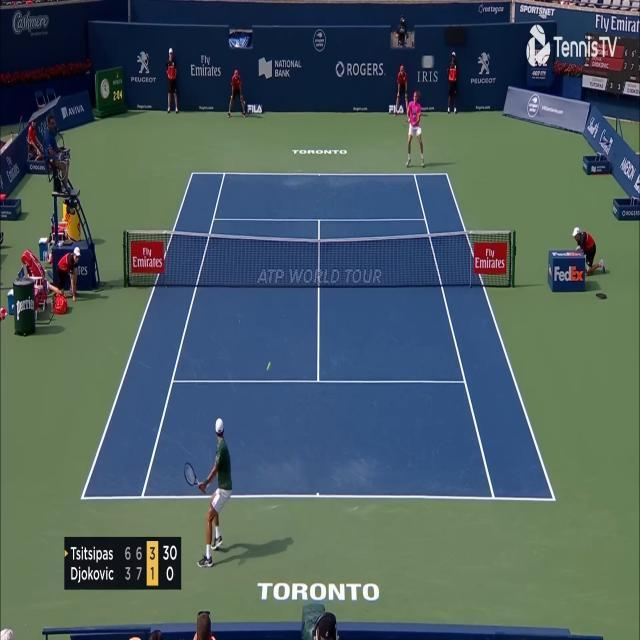court: (80, 174, 557, 502)
net: (123, 231, 516, 288)
player: (197, 416, 233, 569)
